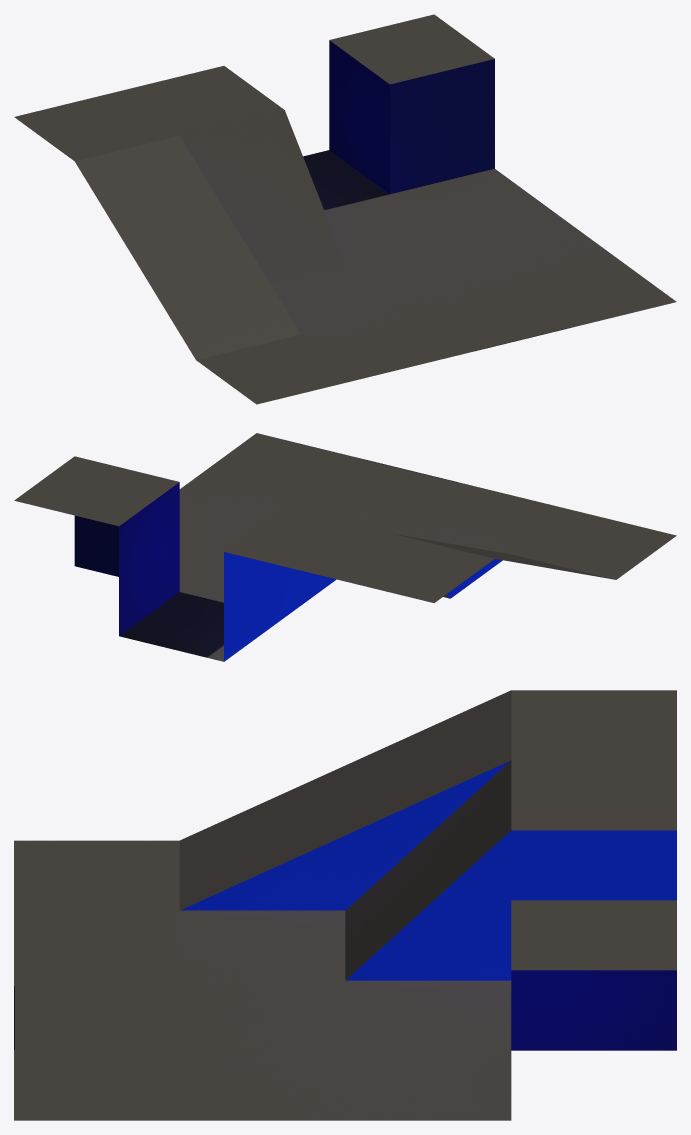
The picture shows the model from 3 angles, top to bottom: view 1: azimuth 30°, elevation 25°; view 2: azimuth 150°, elevation 25°; view 3: azimuth 270°, elevation 25°; orthographic projection. The views are drawn at different scales.
Parts seen in each view (by area): view 1: Plane; view 2: Plane; view 3: Plane.
Boxes of the visible parts, x1,y1,x2,y2 form: Plane: (14,14,676,404); Plane: (14,433,676,661); Plane: (14,690,676,1120).
Bounding box in the file's own units: 40 × 10 × 40.
1 material, 1 textured.
